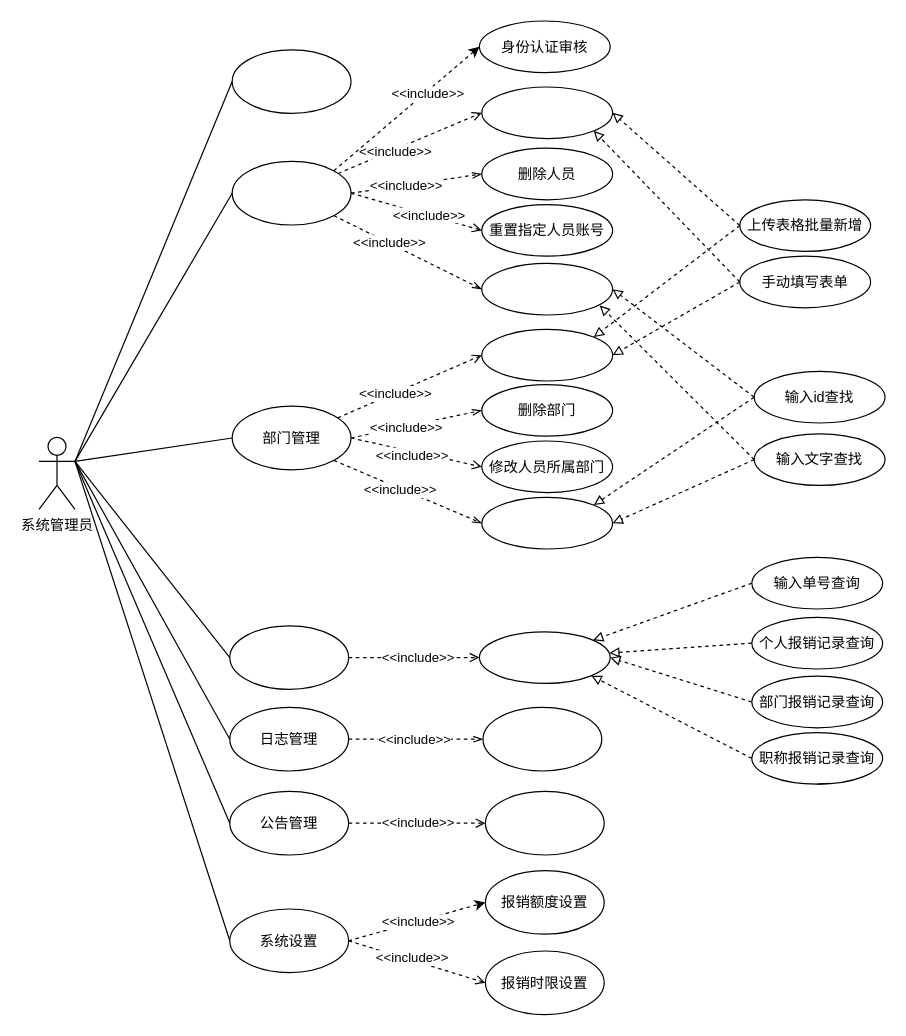
Some shapes in this 906 by 1036 pixel diagram are drawn without their labels. Here are the shapes that lost their labels. From the top down, the centre of each, then its label:
At pixel 291 81: "登录系统".
At pixel 547 112: "增加人员".
At pixel 291 192: "人员管理".
At pixel 547 288: "查找人员".
At pixel 547 354: "增加部门".
At pixel 547 522: "查找部门".
At pixel 289 657: "报销管理".
At pixel 544 657: "报销记录查找".
At pixel 542 738: "查看日志".
At pixel 544 822: "公告增删改查".
